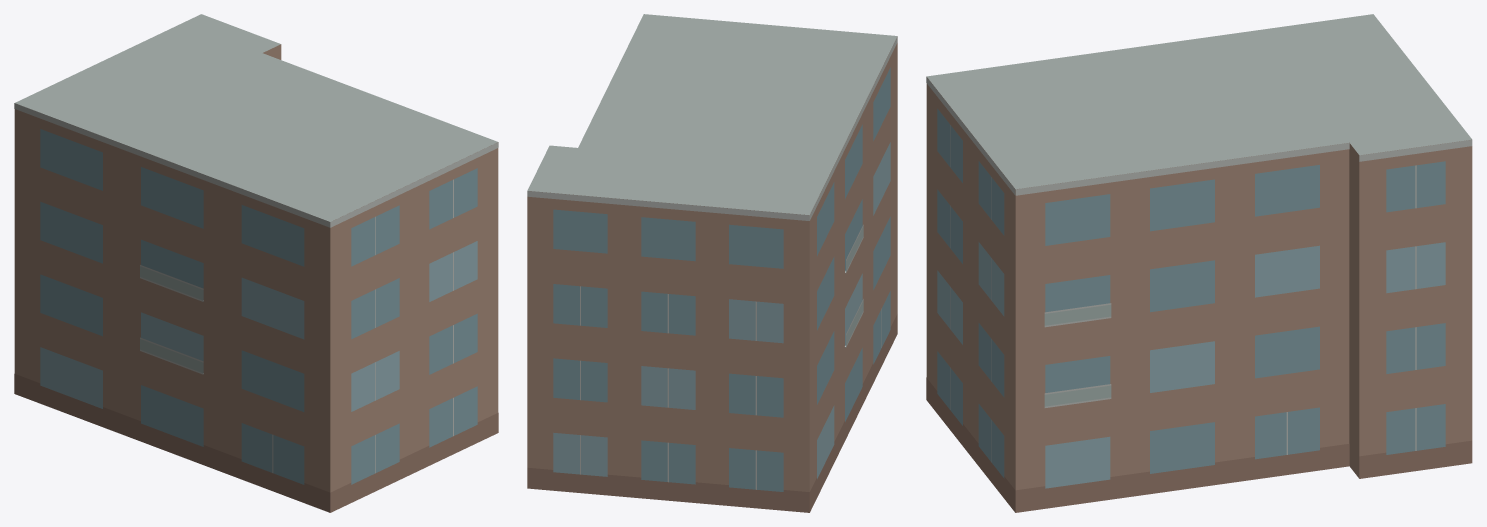
File: survey-upis-32524690.glb
3 renders of one model, left to right at view 1: azimuth 30°, elevation 25°; view 2: azimuth 150°, elevation 25°; view 3: azimuth 270°, elevation 25°, orthographic. The views are drawn at different scales.
Visible parts, largest first — view 1: survey-upis-32524690.tmp; view 2: survey-upis-32524690.tmp; view 3: survey-upis-32524690.tmp.
Part boxes in pixels (x1,y1,x2,y2): survey-upis-32524690.tmp: (14, 14, 498, 512); survey-upis-32524690.tmp: (527, 14, 897, 512); survey-upis-32524690.tmp: (926, 14, 1472, 512).
Bounding box in the file's own units: 14.19 × 12.2 × 18.67.
